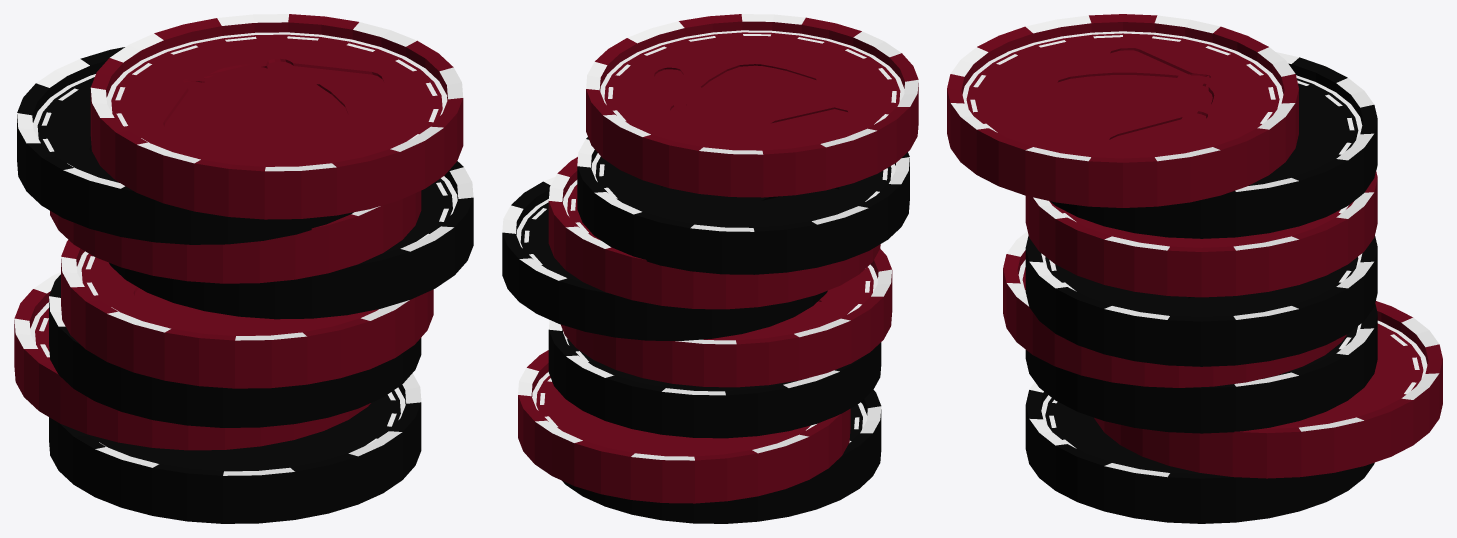
The model's file is poker chip 7 stack (sticking out).fbx.
3 renders of one model, left to right at view 1: azimuth 30°, elevation 25°; view 2: azimuth 150°, elevation 25°; view 3: azimuth 270°, elevation 25°, orthographic. The views are drawn at different scales.
Visible parts, largest first — view 1: Cylinder.007; view 2: Cylinder.007; view 3: Cylinder.007.
Boxes of the visible parts, x1,y1,x2,y2 form: Cylinder.007: (14, 14, 473, 523); Cylinder.007: (502, 14, 918, 523); Cylinder.007: (947, 14, 1442, 523).
Bounding box in the file's own units: 252 × 226 × 282.
